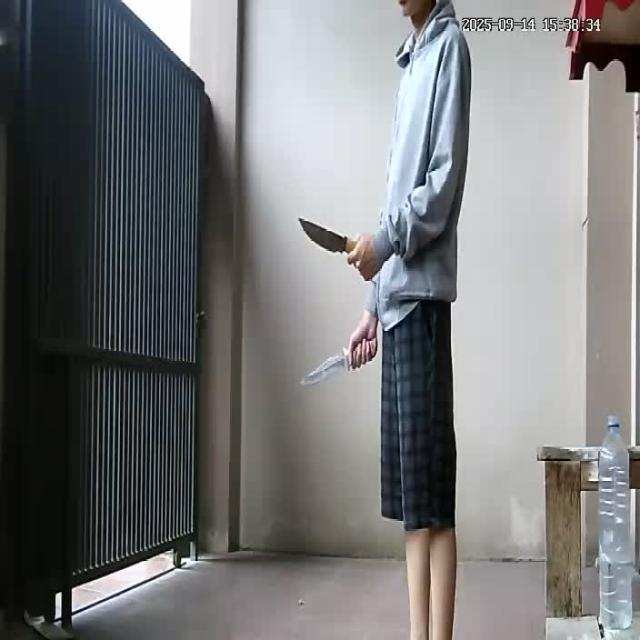senjata_tajam: (298, 215, 355, 255), (296, 348, 350, 388)
